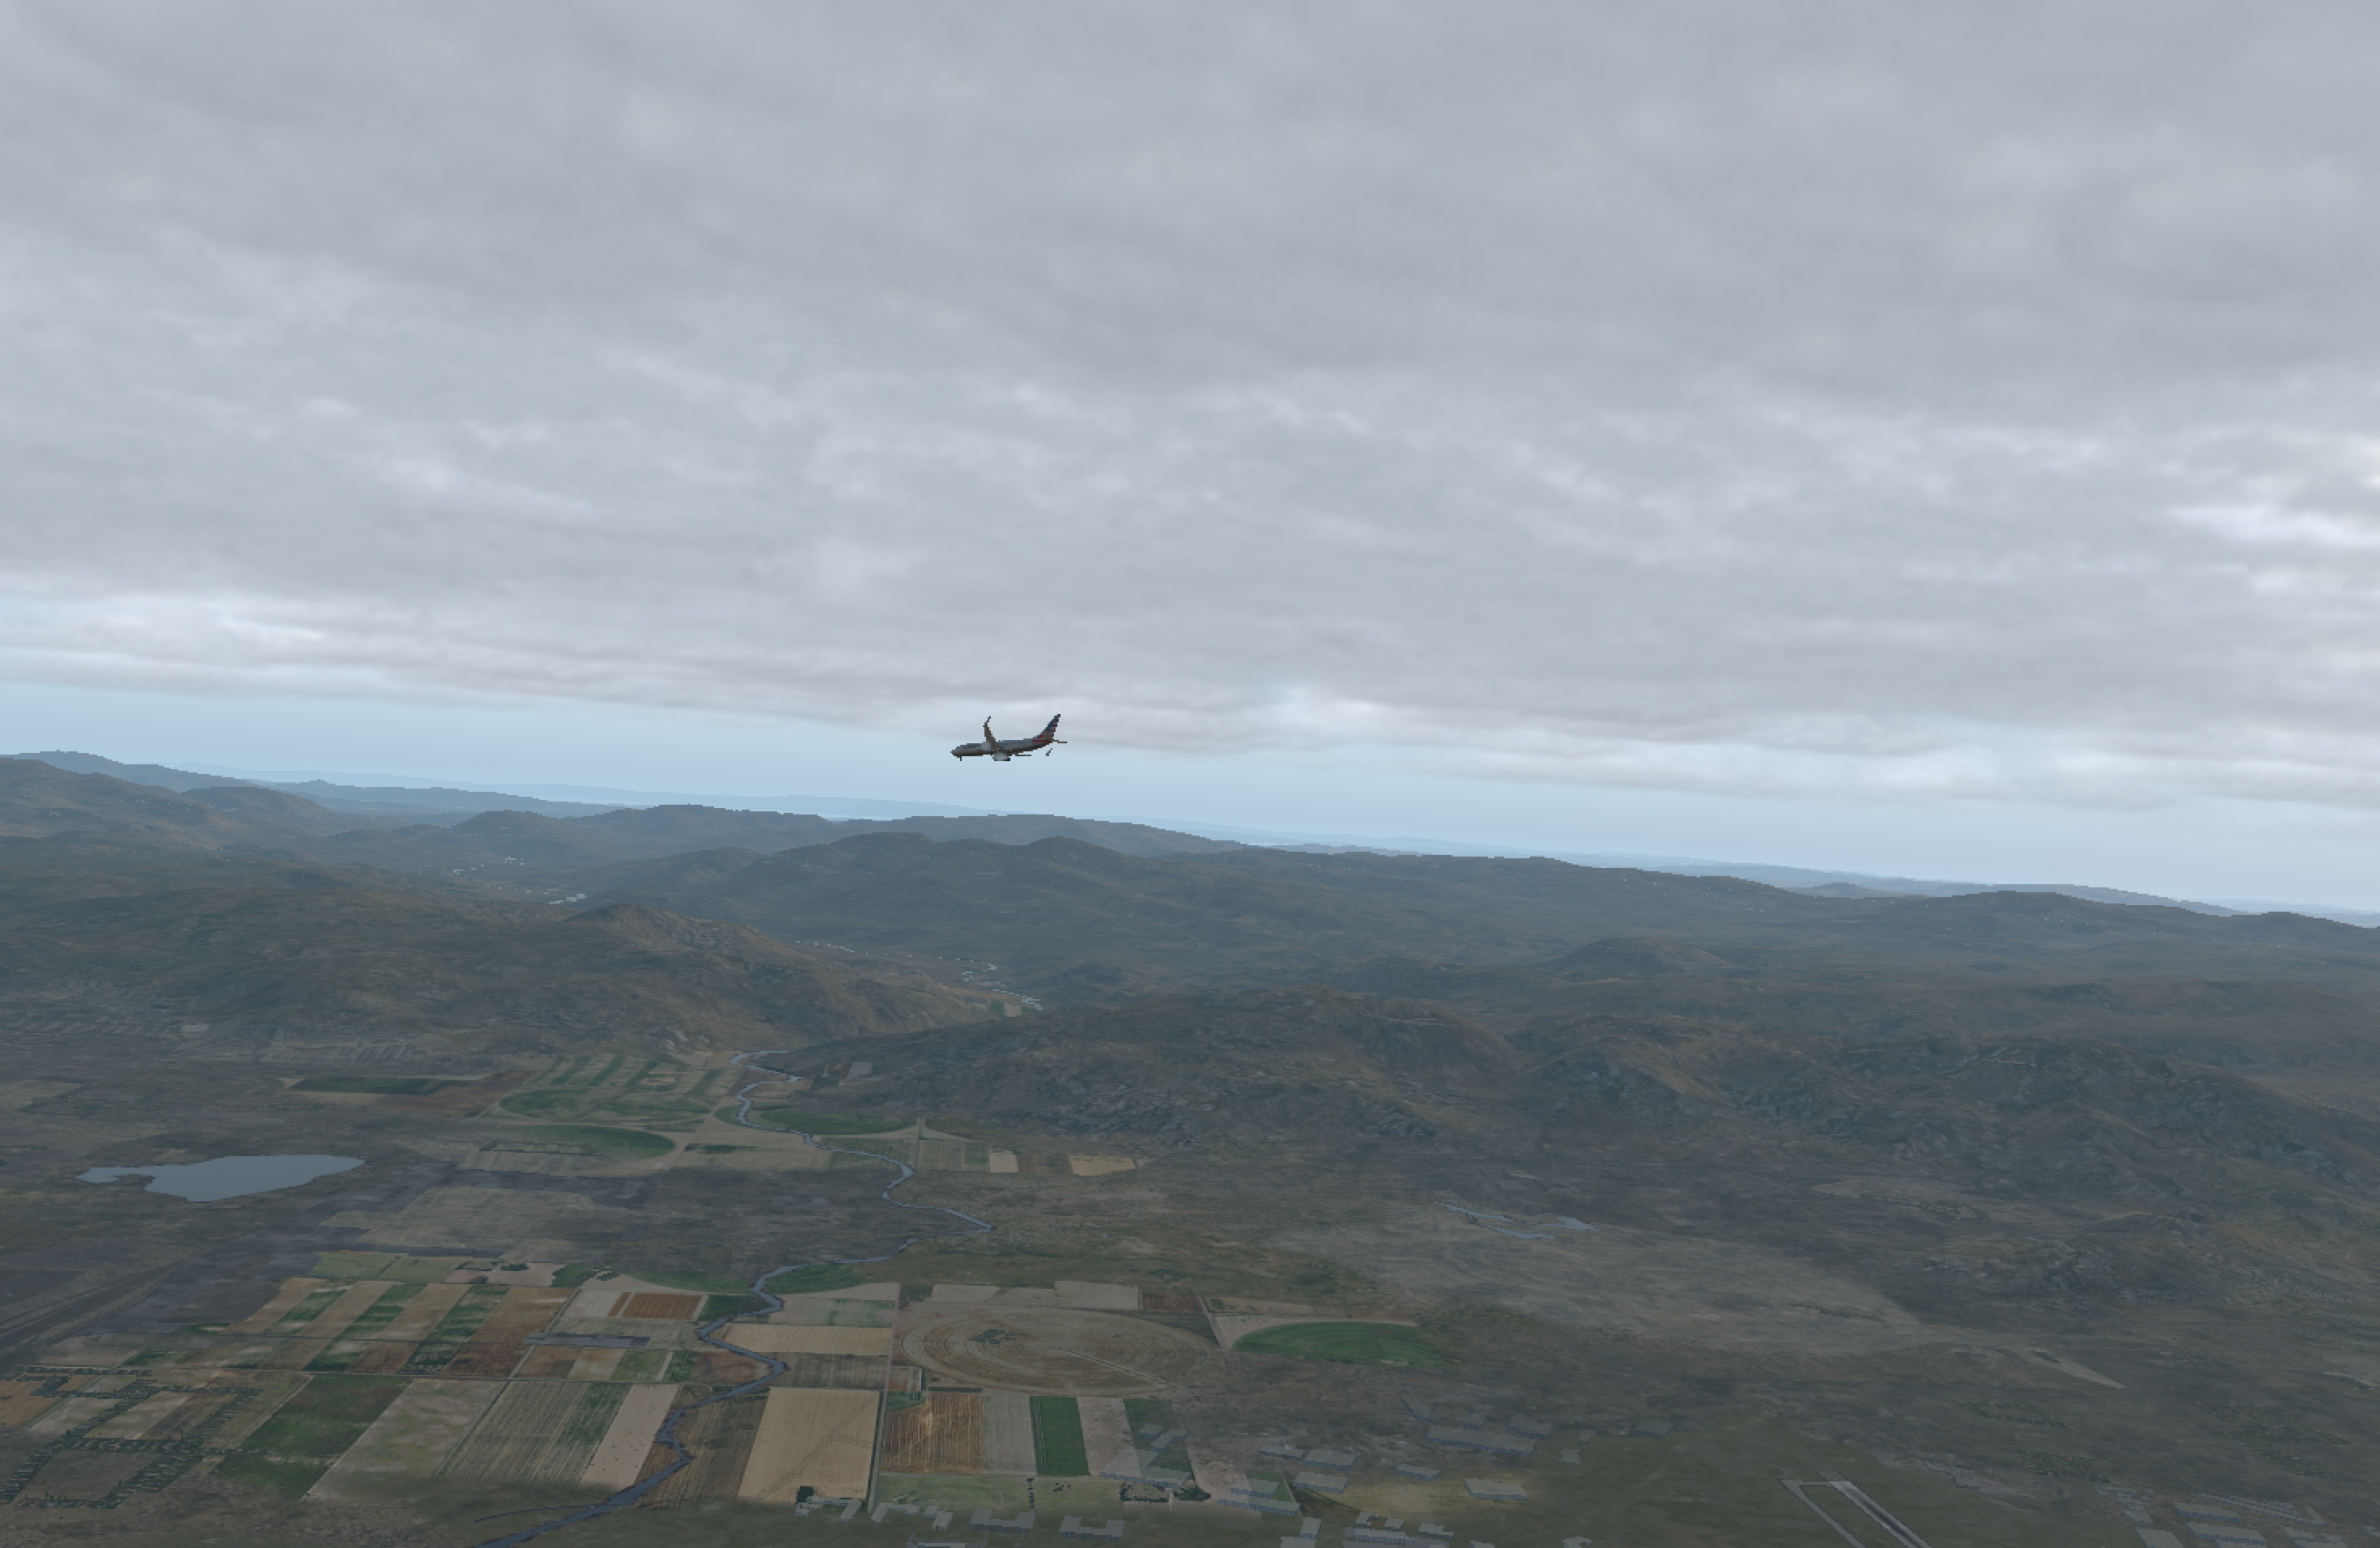aircraft: (937, 725, 1063, 774)
